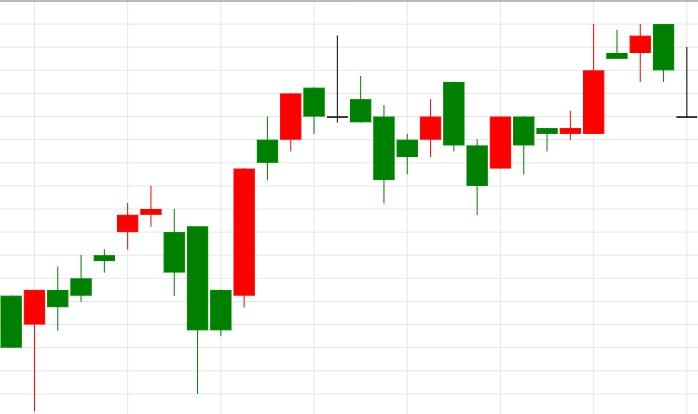bearish_engulfing_fall: (560, 24, 674, 141)
evening_star_fall: (47, 186, 185, 331)
